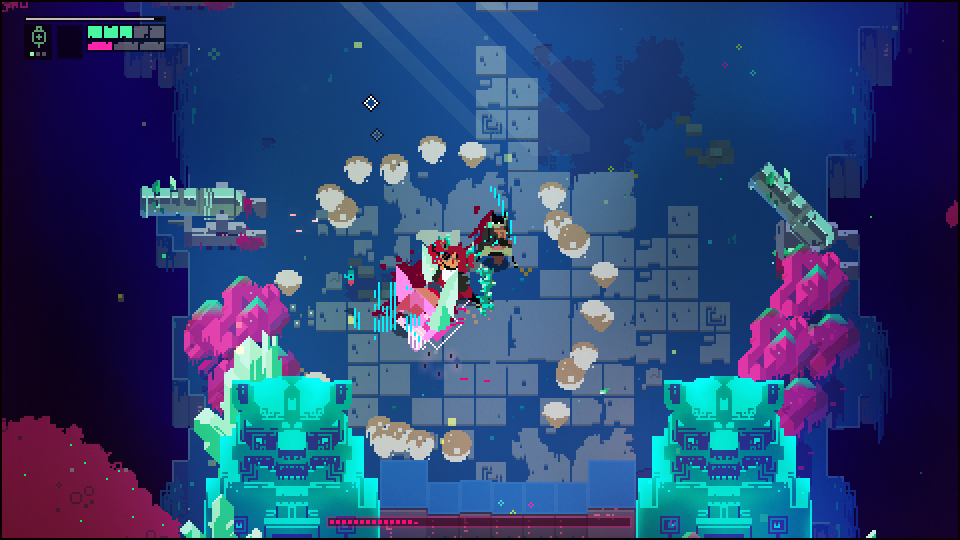hanged_crys: (434, 270, 461, 338)
